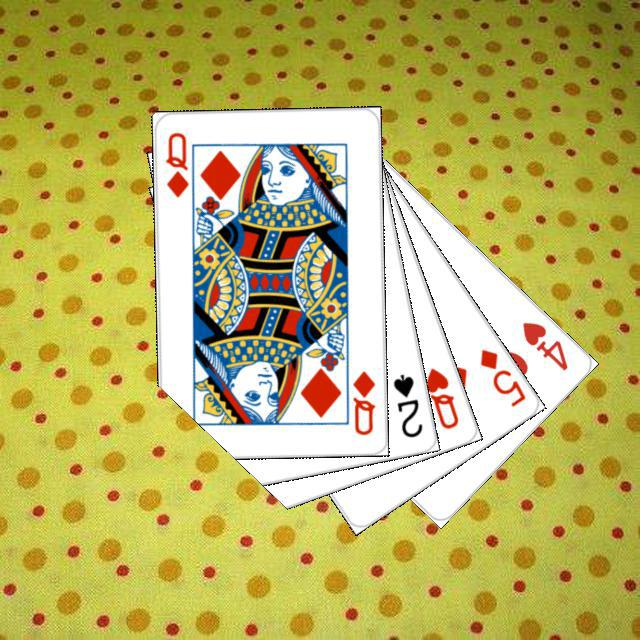2s: (388, 369, 425, 440)
4h: (517, 317, 570, 373)
5d: (474, 344, 527, 409)
Qd: (160, 127, 191, 199), (347, 366, 377, 436)
Qh: (420, 363, 460, 431)
